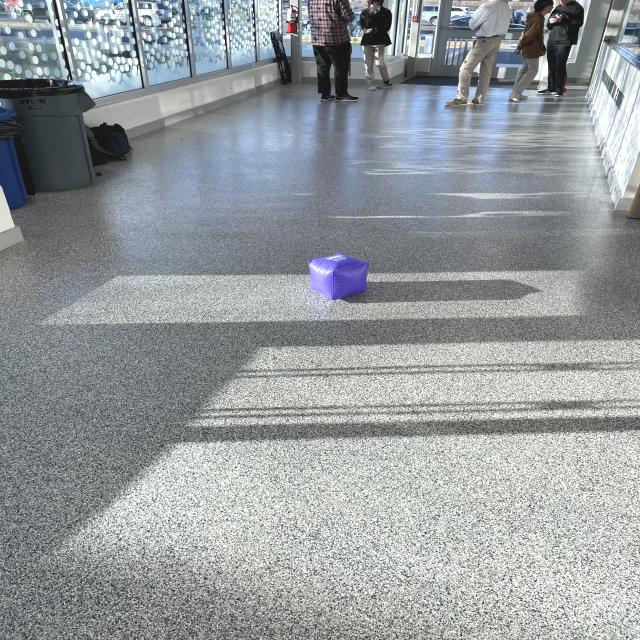frc_cube: (300, 250, 376, 302)
